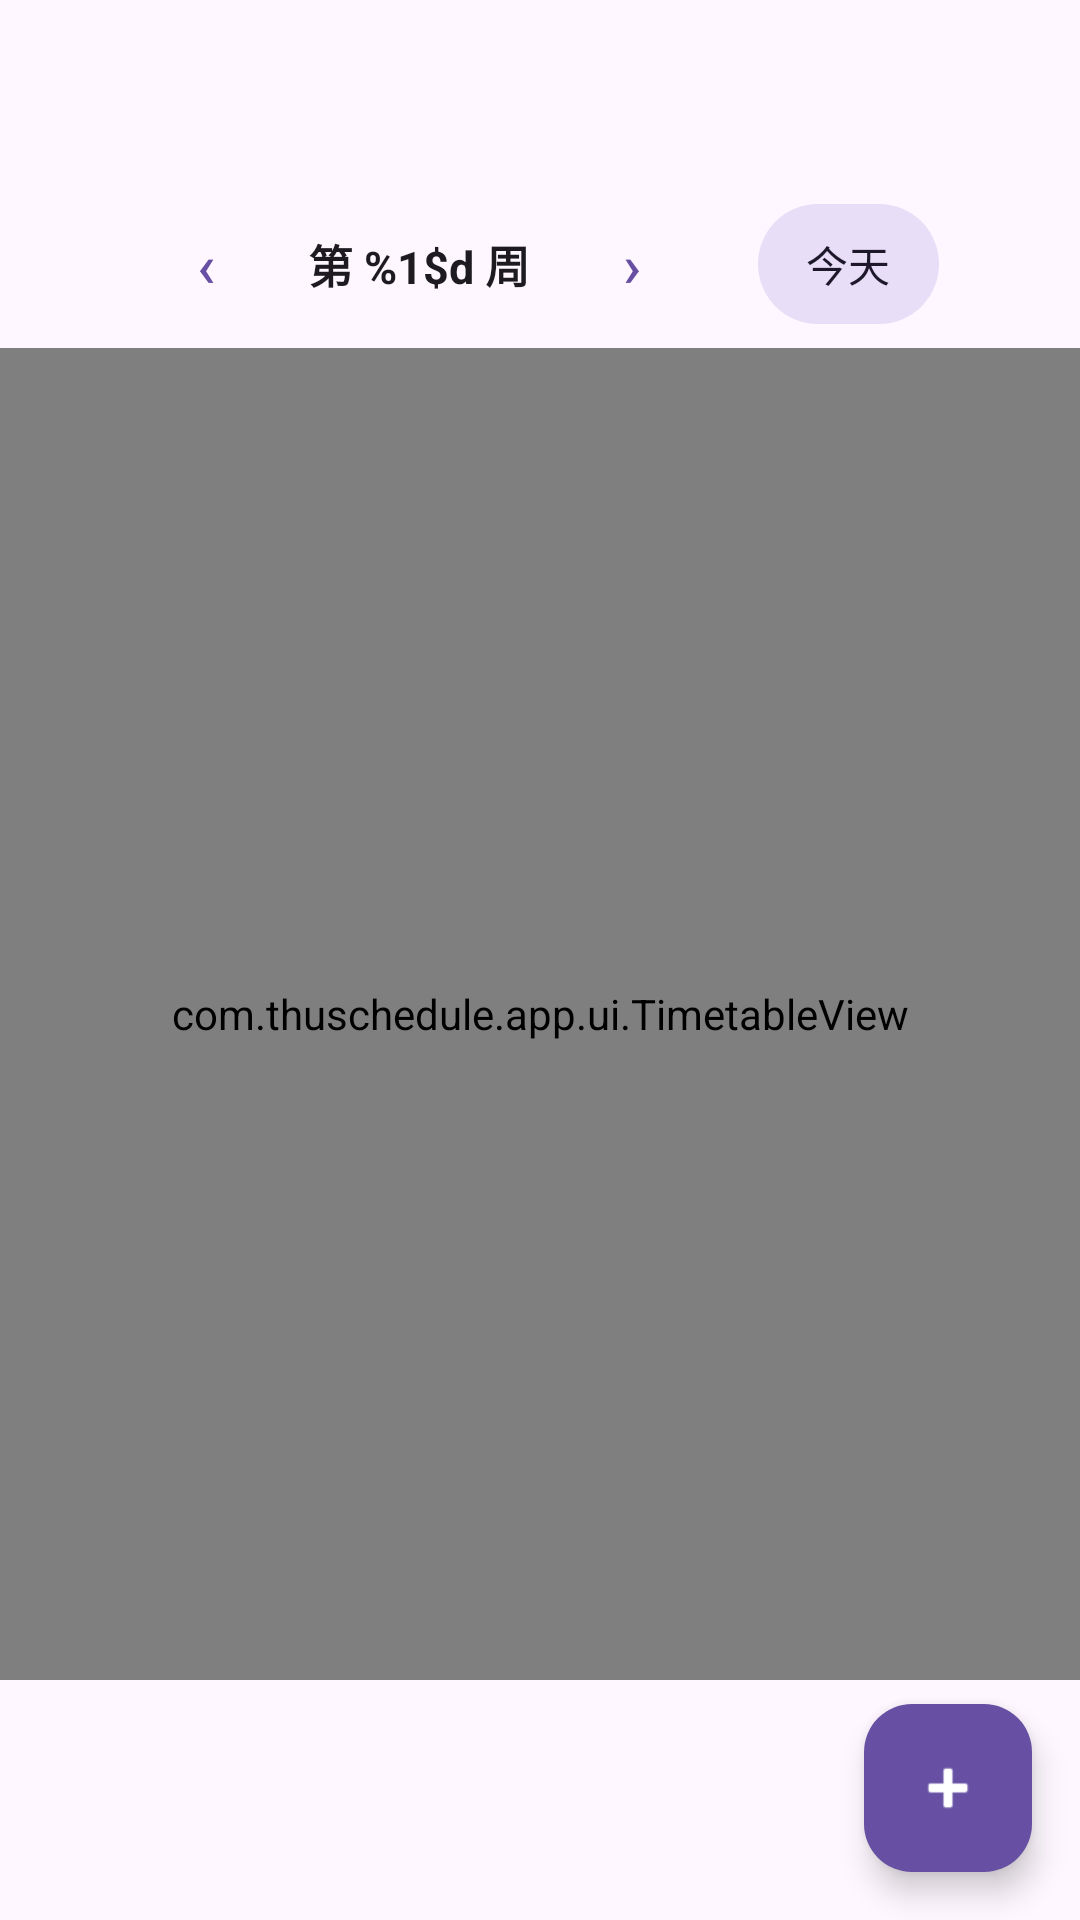

Named icons in this screenshot (1080px x 1920px) and their bounding boxes, (x1, y1, x2, y2):
添加课程: (864, 1704, 1032, 1872)
